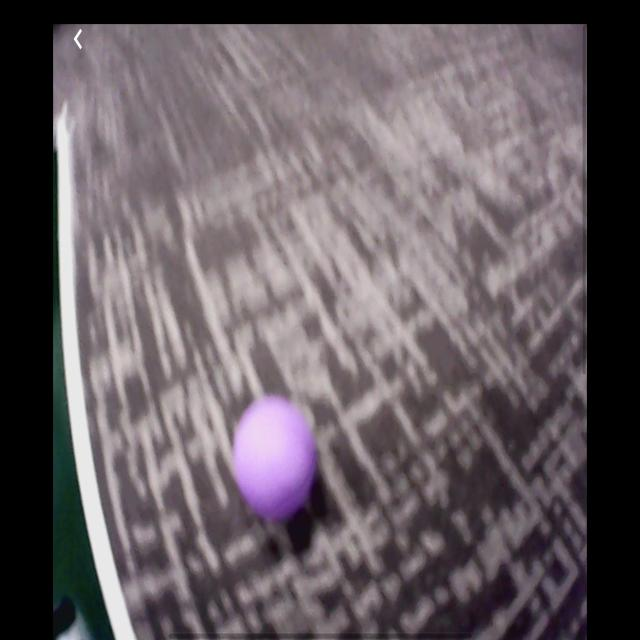ball: (232, 394, 319, 525)
